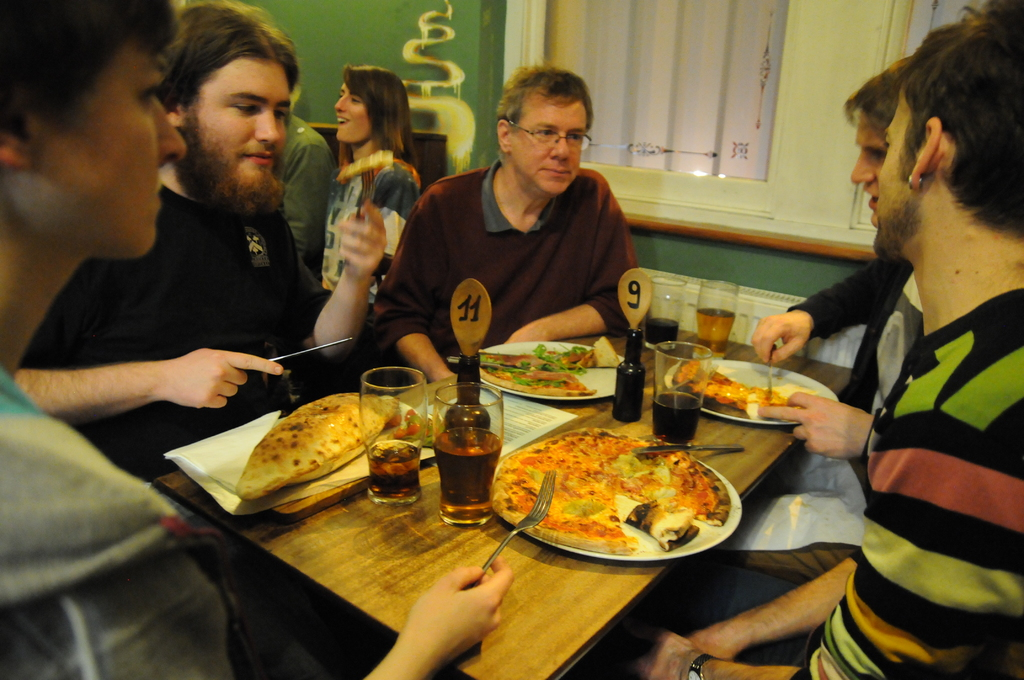Pizza: (510, 430, 730, 564), (480, 333, 624, 393), (674, 356, 792, 406)
